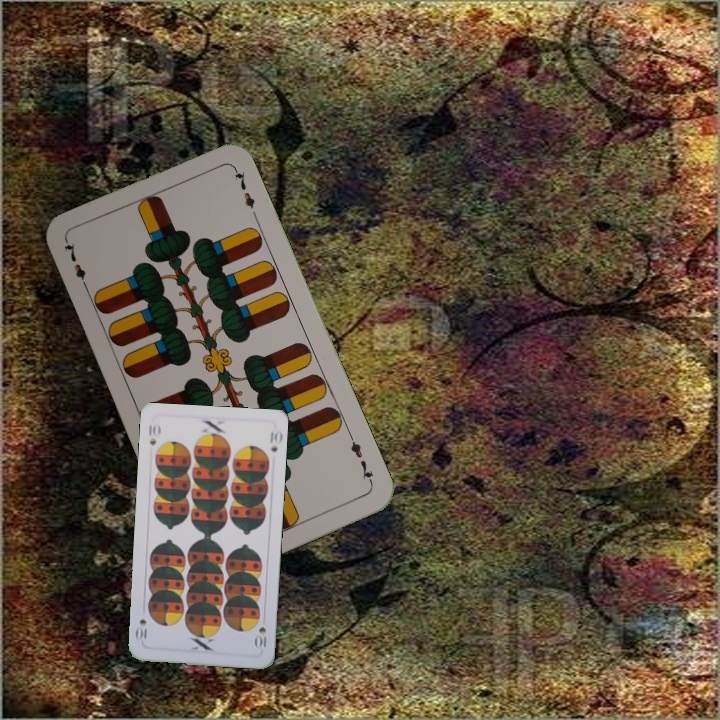E7: (60, 238, 92, 294), (345, 431, 376, 487)
S10: (252, 623, 269, 651), (145, 420, 162, 448)
